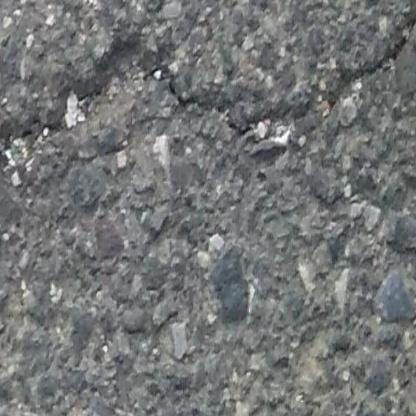Cracks: (0, 0, 416, 187)
